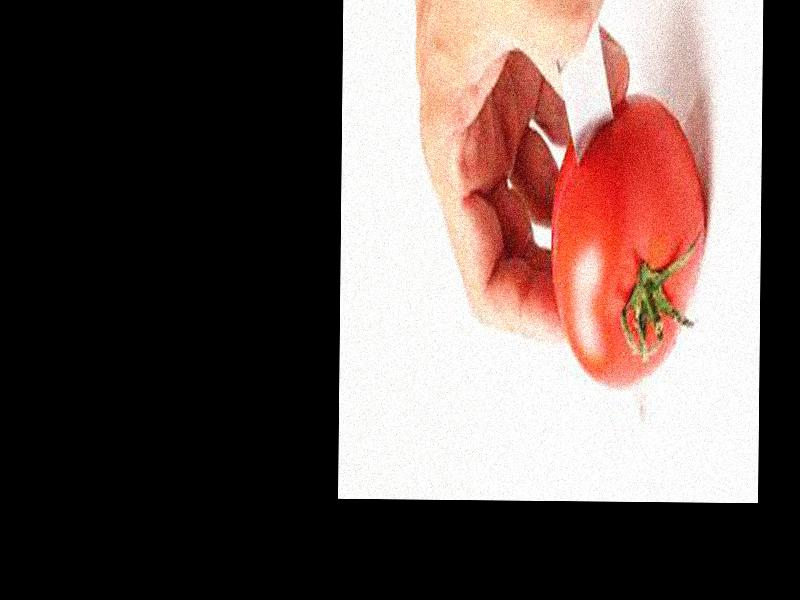Tomato: (548, 94, 706, 383)
